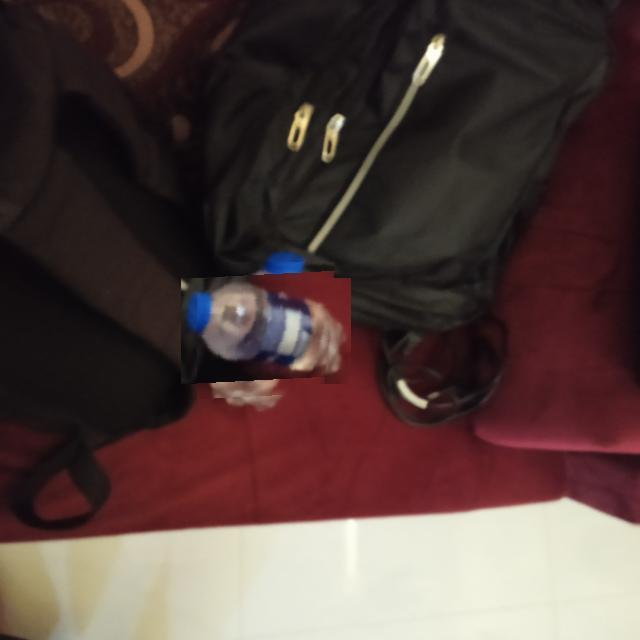Plastic: (197, 262, 336, 400)
